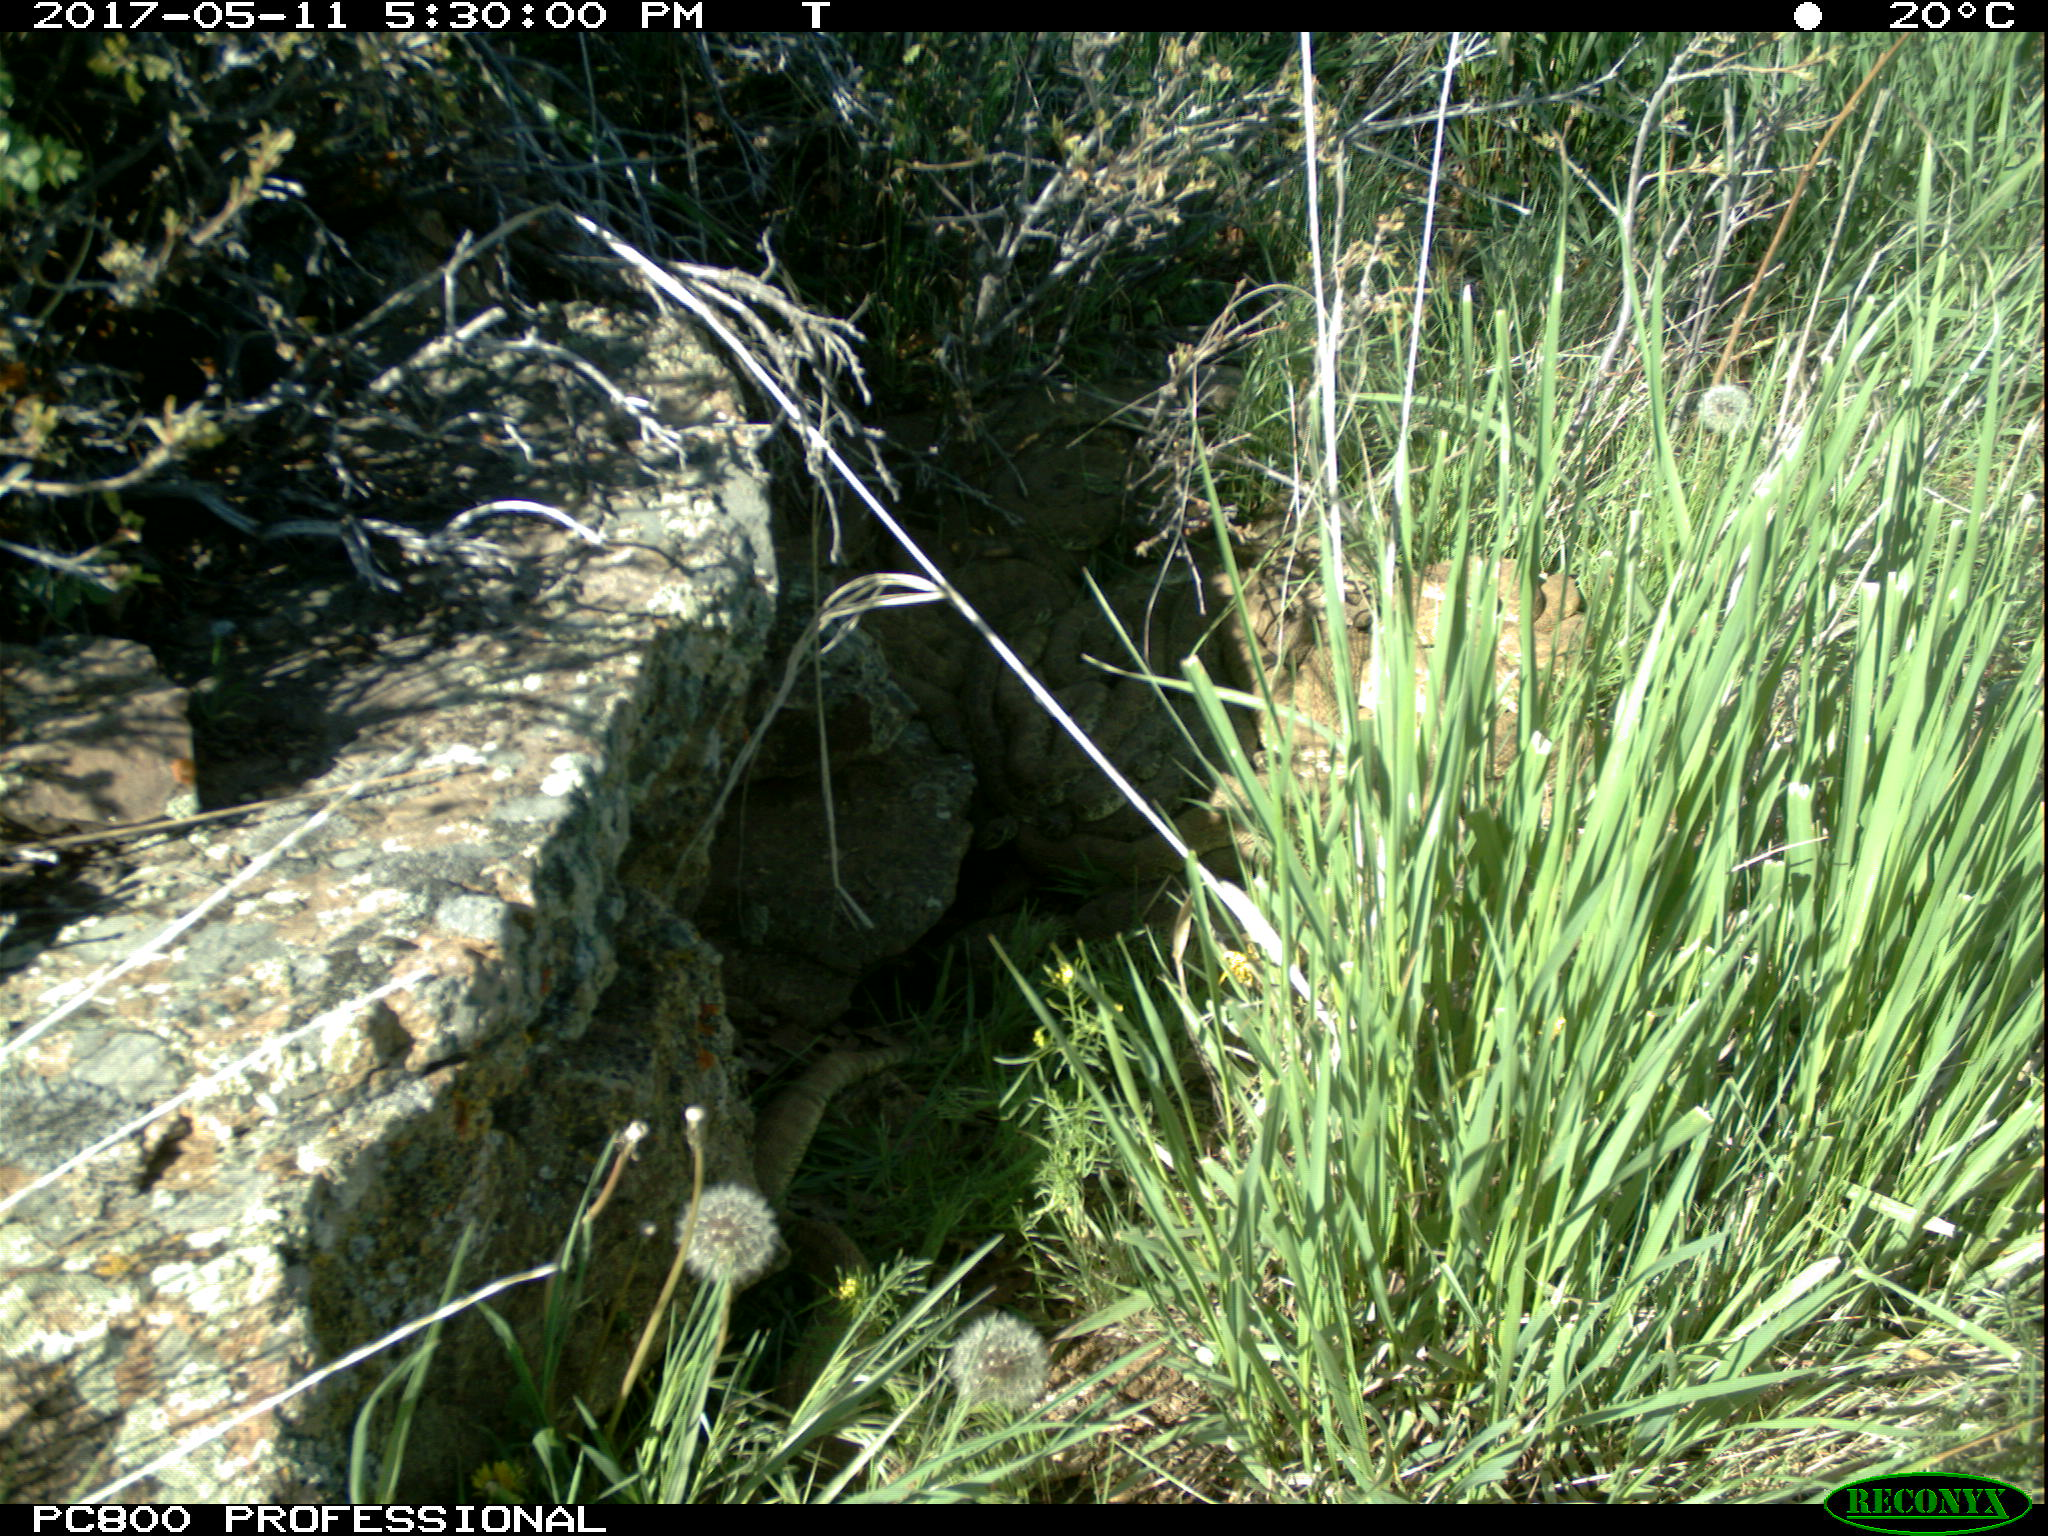snake: (1282, 552, 1588, 770), (1030, 679, 1276, 865), (743, 1042, 943, 1217), (932, 570, 1106, 753), (785, 1199, 872, 1363)
